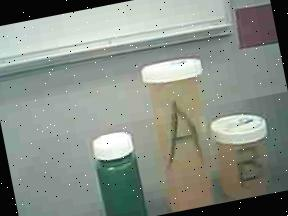Bottle A: (124, 50, 220, 216)
Bottle B: (207, 106, 284, 202)
Bottle C: (82, 124, 151, 216)
